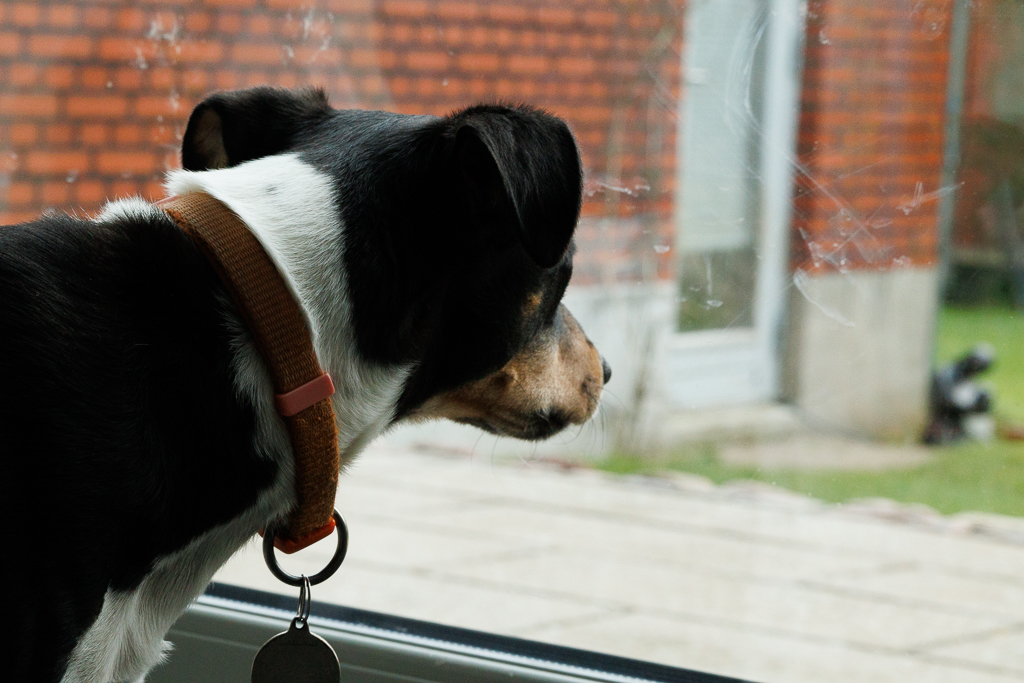Dog: (0, 67, 640, 683)
Humanoid: (909, 332, 1014, 454)
